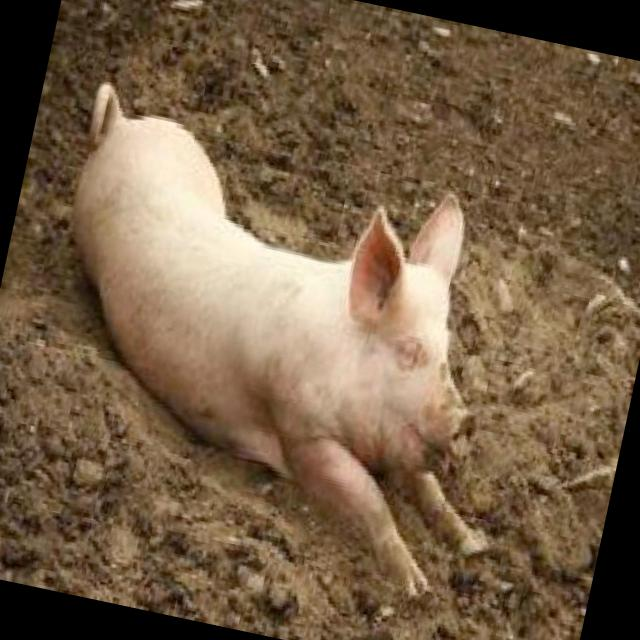pig: (73, 84, 488, 594)
